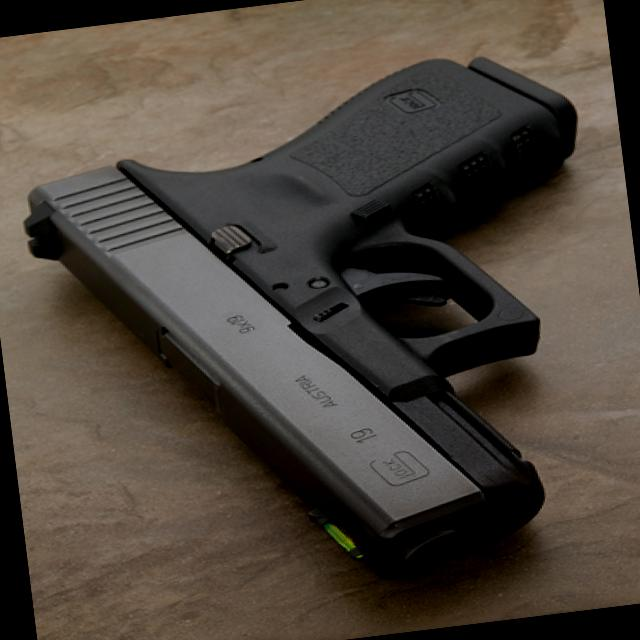handgun: (3, 39, 635, 616)
